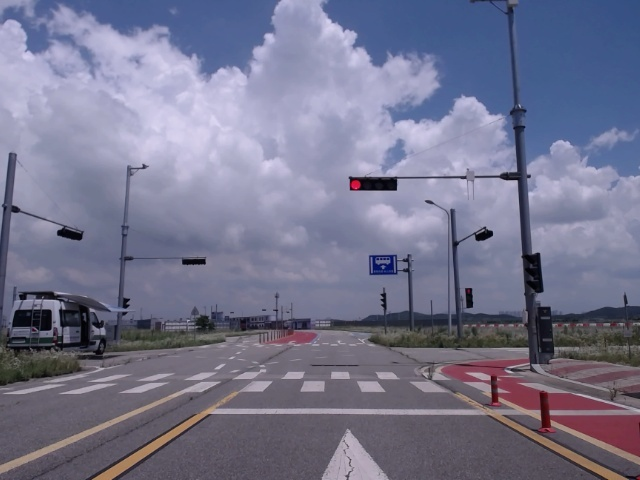red_4: (350, 179, 397, 191)
